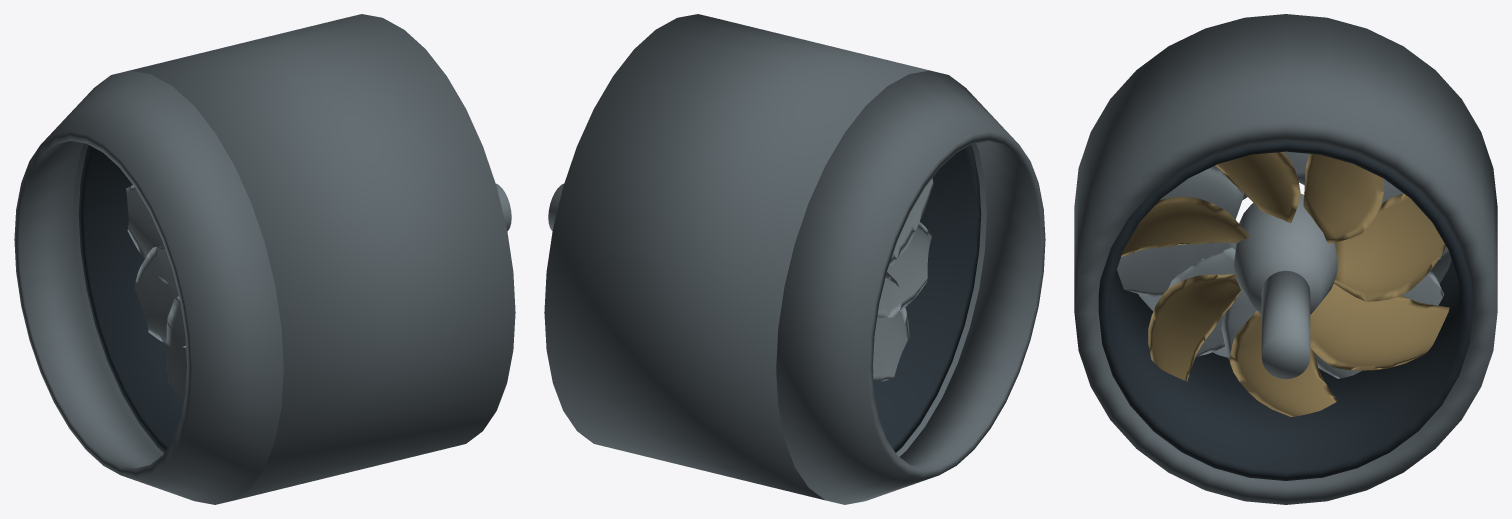
Rendered from US_PJ_Seawolf_COMBINED.fbx.
The picture shows the model from 3 angles, left to right: view 1: azimuth 30°, elevation 25°; view 2: azimuth 150°, elevation 25°; view 3: azimuth 270°, elevation 25°; orthographic projection. The views are drawn at different scales.
Parts seen in each view (by area): view 1: US_PJ_Seawolf.001; view 2: US_PJ_Seawolf.001; view 3: US_PJ_Seawolf.001.
Boxes of the visible parts, bbox=[...] form: US_PJ_Seawolf.001: bbox=[14, 14, 515, 504]; US_PJ_Seawolf.001: bbox=[544, 14, 1045, 504]; US_PJ_Seawolf.001: bbox=[1074, 14, 1497, 504].
Bounding box in the file's own units: 627 × 610 × 610.
